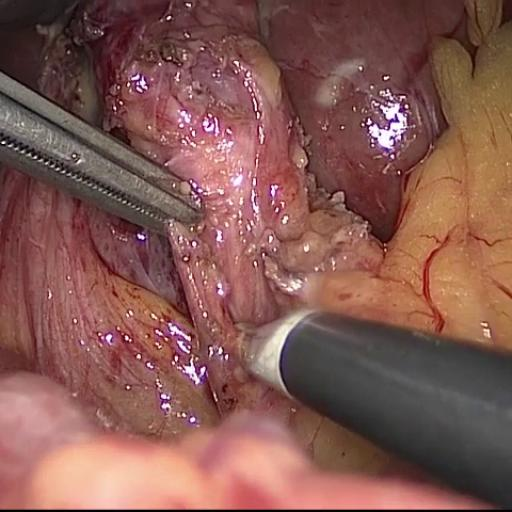Grasper: (0, 46, 228, 263)
Hook: (175, 246, 341, 410)
